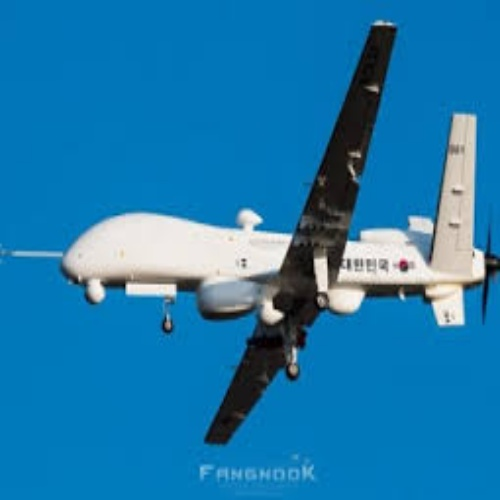uav: (7, 24, 498, 449)
